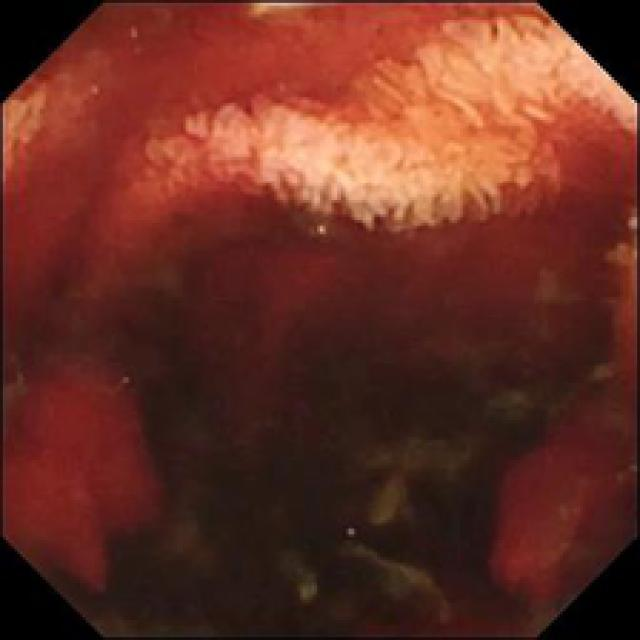bleeding: (0, 0, 640, 571)
